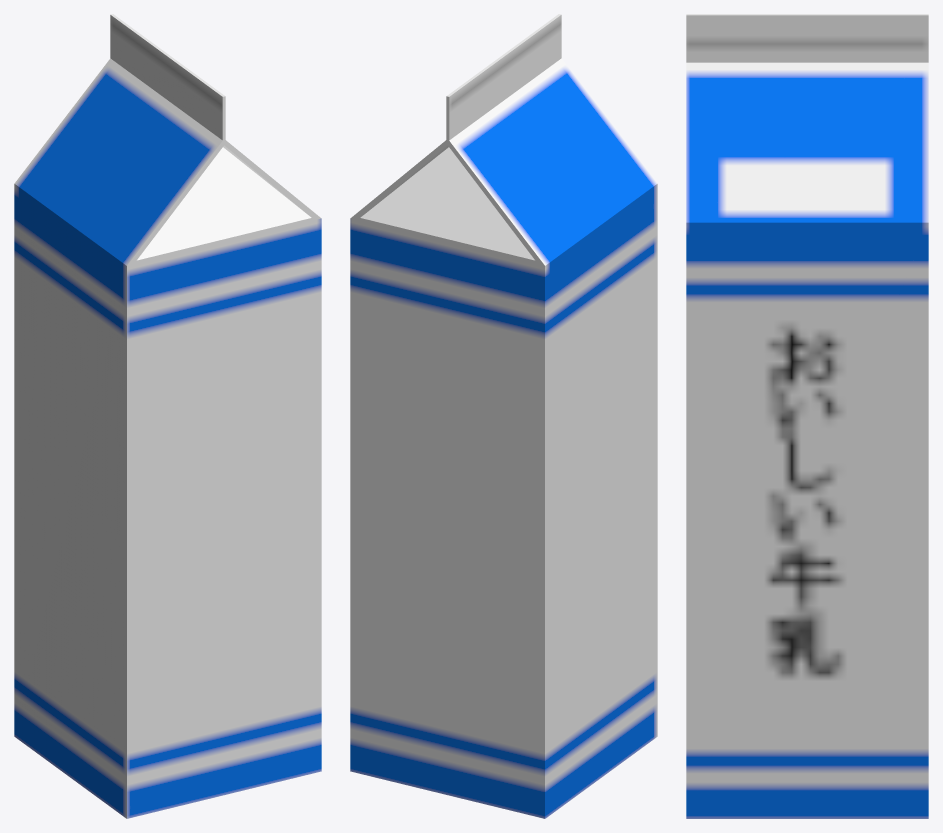
Rendered from milk.glb.
3 renders of one model, left to right at view 1: azimuth 30°, elevation 25°; view 2: azimuth 150°, elevation 25°; view 3: azimuth 270°, elevation 25°, orthographic. The views are drawn at different scales.
Visible parts, largest first — view 1: 立方体; view 2: 立方体; view 3: 立方体.
Boxes of the visible parts, x1=… form: 立方体: x1=14, y1=14, x2=321, y2=818; 立方体: x1=350, y1=14, x2=657, y2=818; 立方体: x1=686, y1=14, x2=928, y2=818.
Bounding box in the file's own units: 0.07 × 0.24 × 0.07.
1 material, 1 textured.
